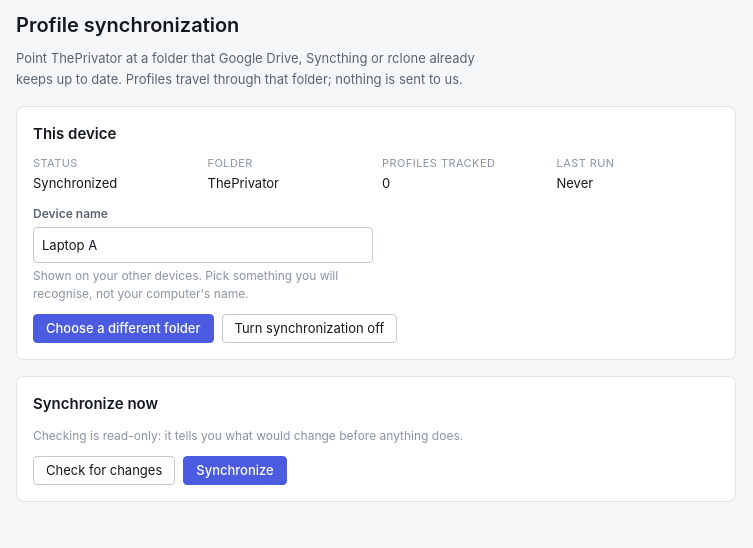
Scenario: SyncSettings › reports what a run changed
Click the button "Synchronize" at (235, 470), box [183,456,287,485]
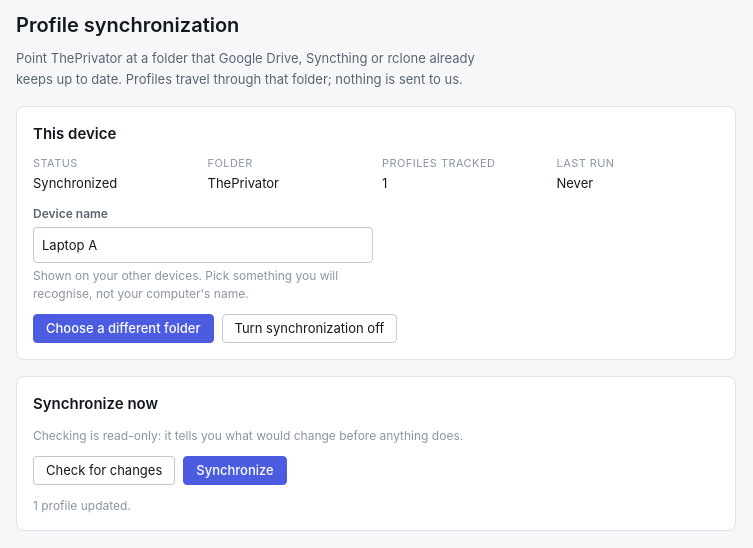
Check: the text "1 profile updated." is shown, box [33,498,131,513]
